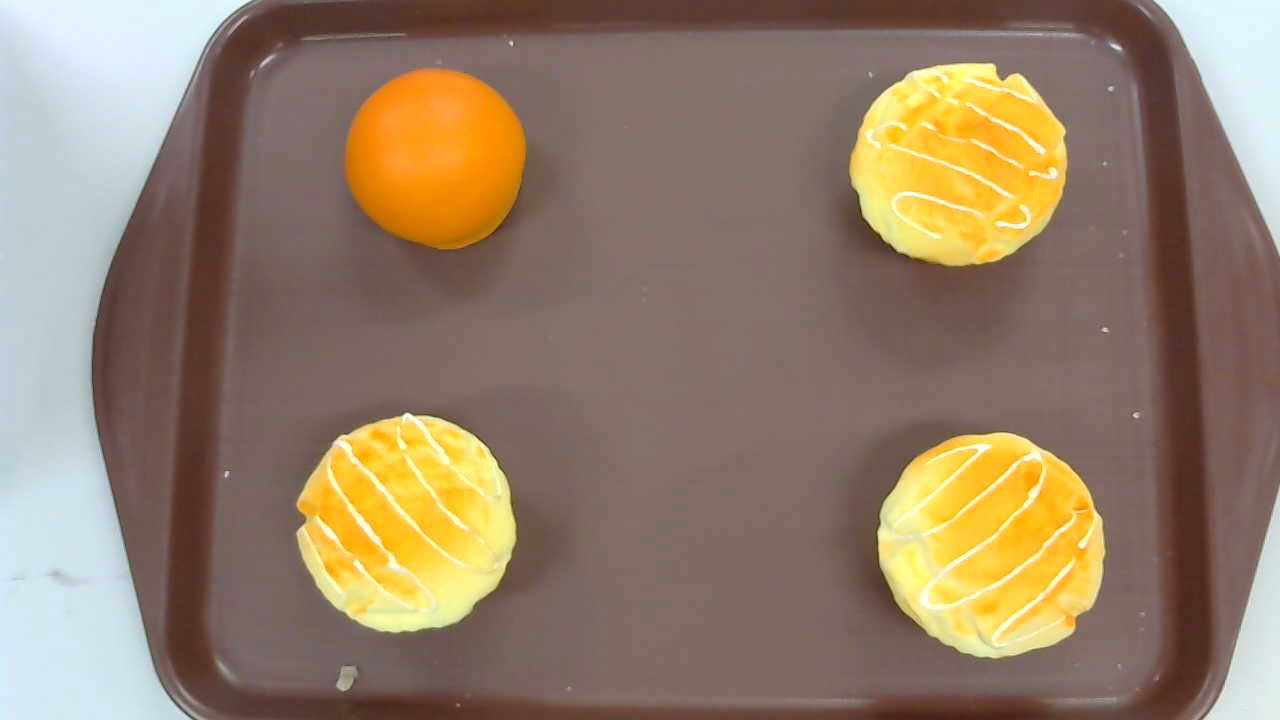bun: (343, 69, 528, 250)
cupcake: (876, 432, 1105, 660), (295, 413, 518, 635), (849, 59, 1069, 268)
